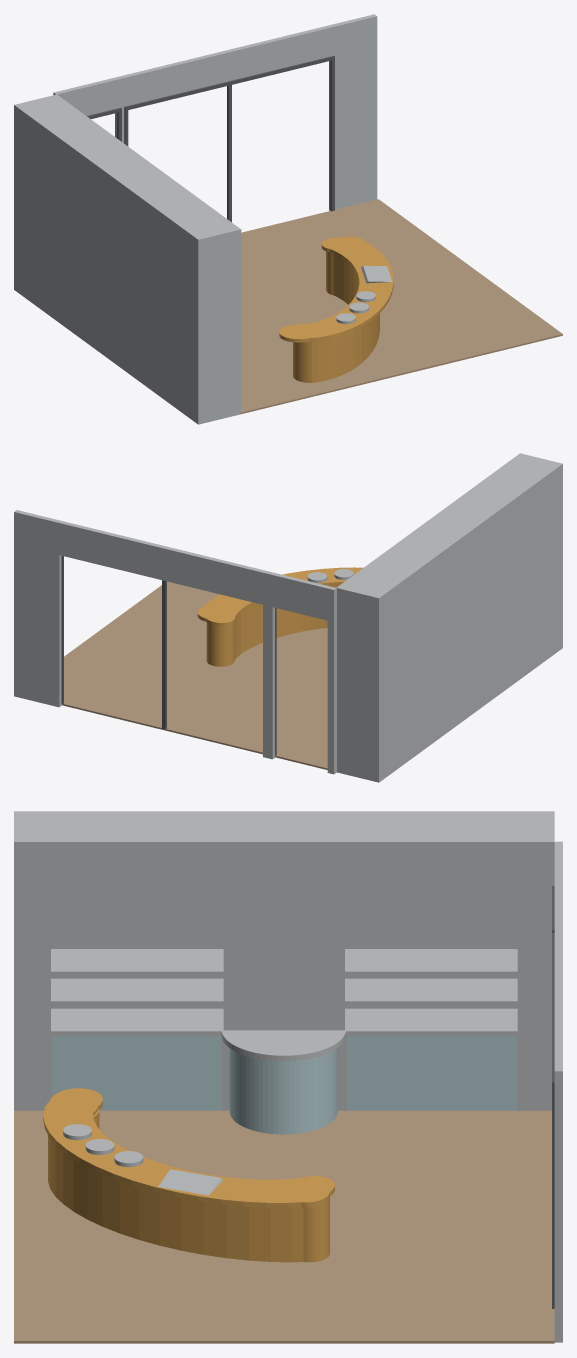
File: SalleHugo.glb
3 renders of one model, top to bottom at view 1: azimuth 30°, elevation 25°; view 2: azimuth 150°, elevation 25°; view 3: azimuth 270°, elevation 25°, orthographic. The views are drawn at different scales.
Parts seen in each view (by area): view 1: Mesh_Mesh_head_geo.001_lambert2SG.001; view 2: Mesh_Mesh_head_geo.001_lambert2SG.001; view 3: Mesh_Mesh_head_geo.001_lambert2SG.001.
Boxes of the visible parts, <box> form: Mesh_Mesh_head_geo.001_lambert2SG.001: <box>14,14,562,424</box>; Mesh_Mesh_head_geo.001_lambert2SG.001: <box>14,453,562,782</box>; Mesh_Mesh_head_geo.001_lambert2SG.001: <box>14,811,562,1343</box>.
Bounding box in the file's own units: 0.225 × 0.1176 × 0.2.
